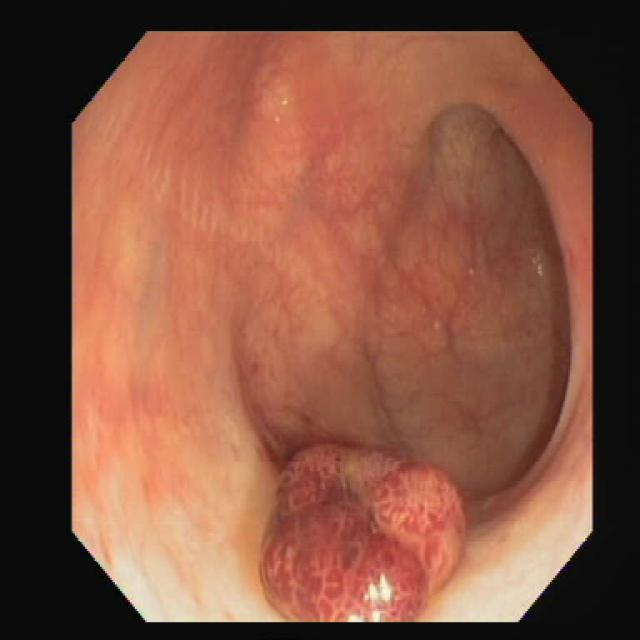tumor: (262, 440, 467, 620)
